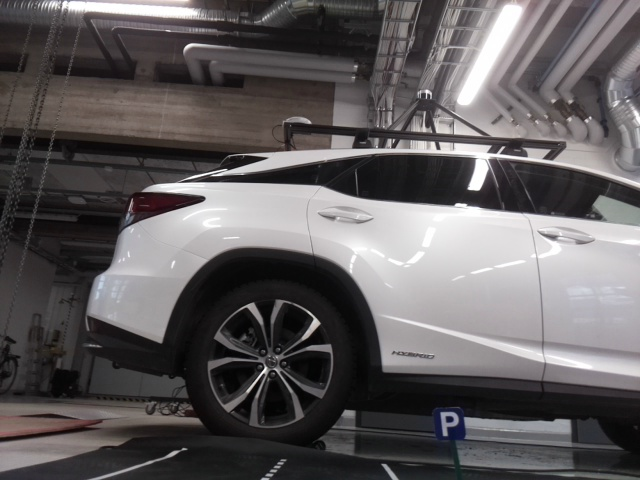Parking: (434, 408, 464, 440)
